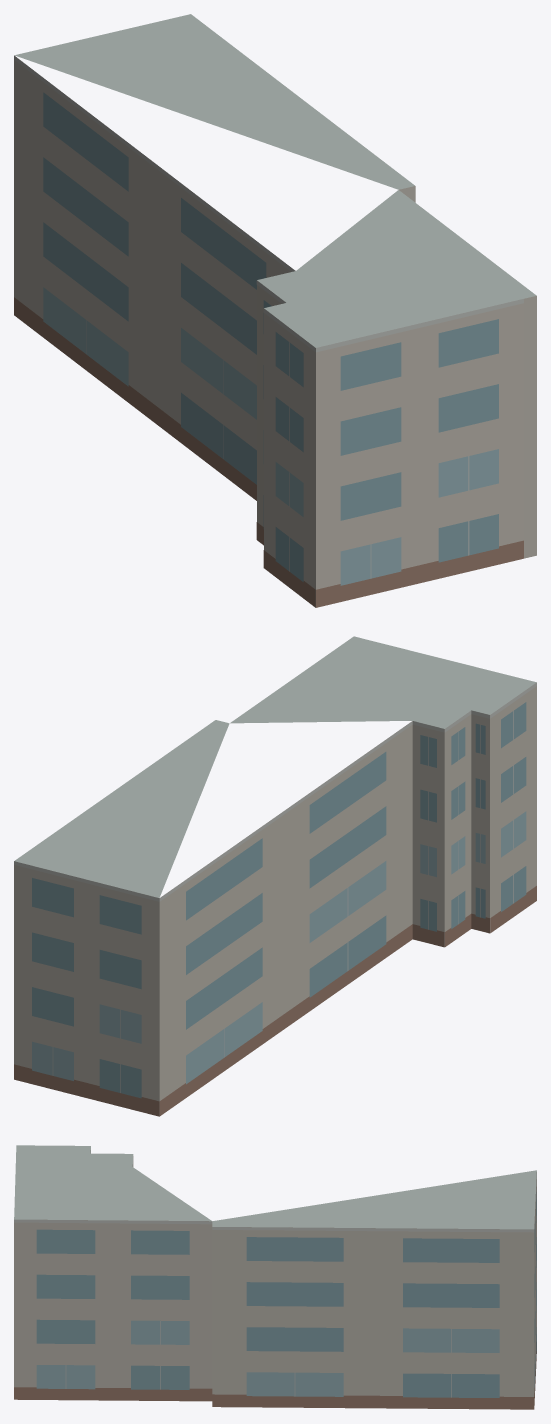
File: survey-upis-32805366.glb
3 renders of one model, top to bottom at view 1: azimuth 30°, elevation 25°; view 2: azimuth 150°, elevation 25°; view 3: azimuth 270°, elevation 25°, orthographic. The views are drawn at different scales.
Visible parts, largest first — view 1: survey-upis-32805366.tmp; view 2: survey-upis-32805366.tmp; view 3: survey-upis-32805366.tmp.
Part boxes in pixels (bbox=[...]): survey-upis-32805366.tmp: bbox=[14, 14, 536, 607]; survey-upis-32805366.tmp: bbox=[14, 636, 536, 1116]; survey-upis-32805366.tmp: bbox=[14, 1145, 536, 1409].
Bounding box in the file's own units: 14.27 × 14.25 × 37.48.
